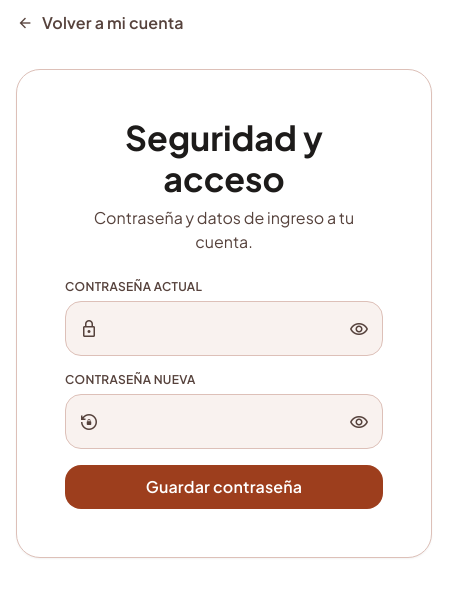
Scenario: Seguridad — cambiar contraseña › manda actual y nueva, y muestra la confirmación
In the password field labelled "Contraseña actual": point(224, 329) top-left (65, 301), bottom-right (383, 356), type "vieja123"
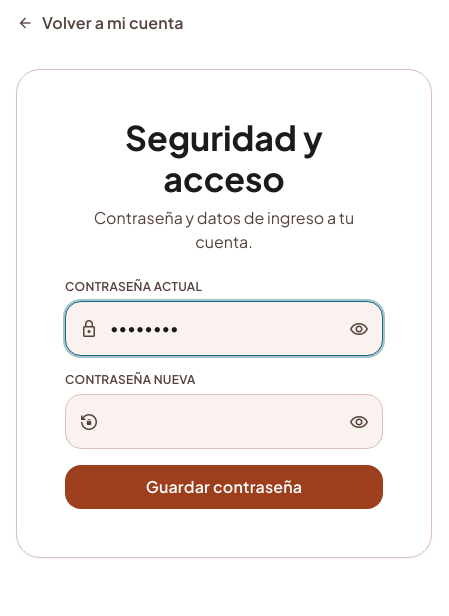
In the password field labelled "Contraseña nueva": point(224, 422) top-left (65, 394), bottom-right (383, 449), type "nueva456"
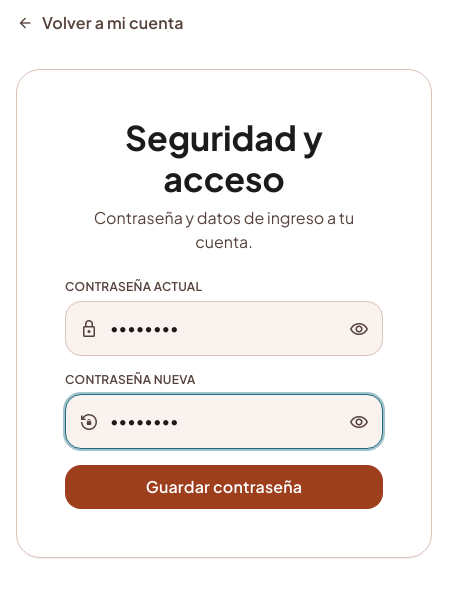
Click the button "Guardar contraseña": point(224, 487) top-left (65, 465), bottom-right (383, 509)
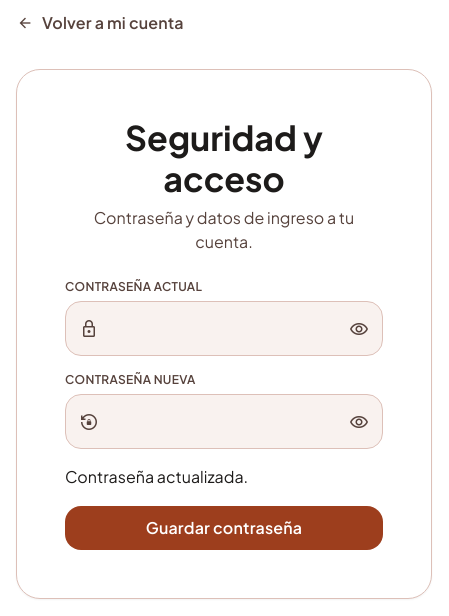
Check: the text "Contraseña actualizada." is shown, box top-left (65, 466), bottom-right (248, 487)
